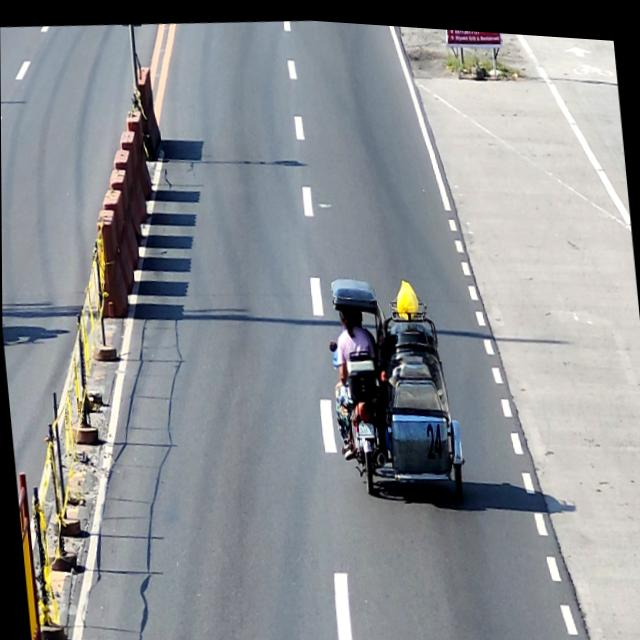License-Plate: (356, 415, 374, 432)
Tricycle: (322, 265, 468, 504)
